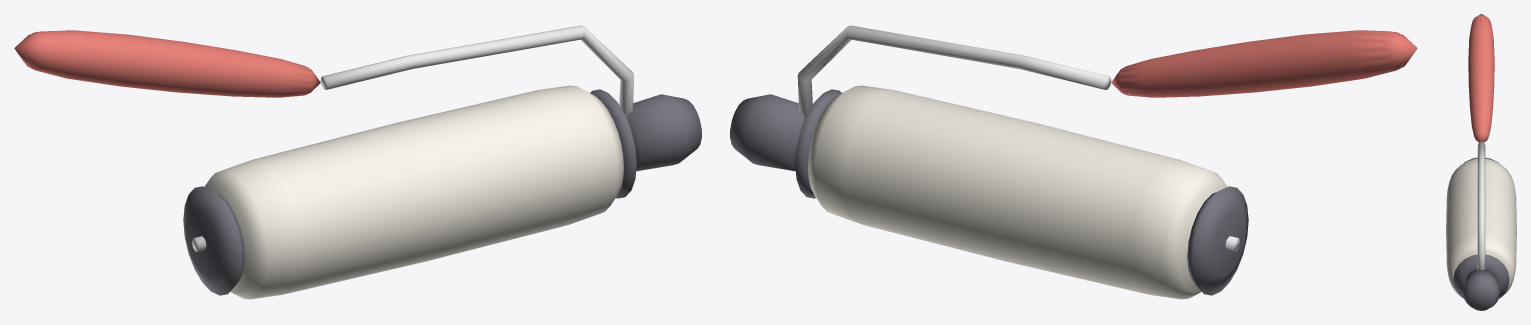
The model's file is roller.glb.
The picture shows the model from 3 angles, left to right: view 1: azimuth 30°, elevation 25°; view 2: azimuth 150°, elevation 25°; view 3: azimuth 270°, elevation 25°; orthographic projection. The views are drawn at different scales.
Visible parts, largest first — view 1: roller; view 2: roller; view 3: roller.
Part boxes in pixels (box(x1,y1,x2,y2)): roller: box(14, 25, 701, 299); roller: box(730, 25, 1417, 299); roller: box(1446, 14, 1516, 310).
Bounding box in the file's own units: 0.472 × 0.2097 × 0.086.
